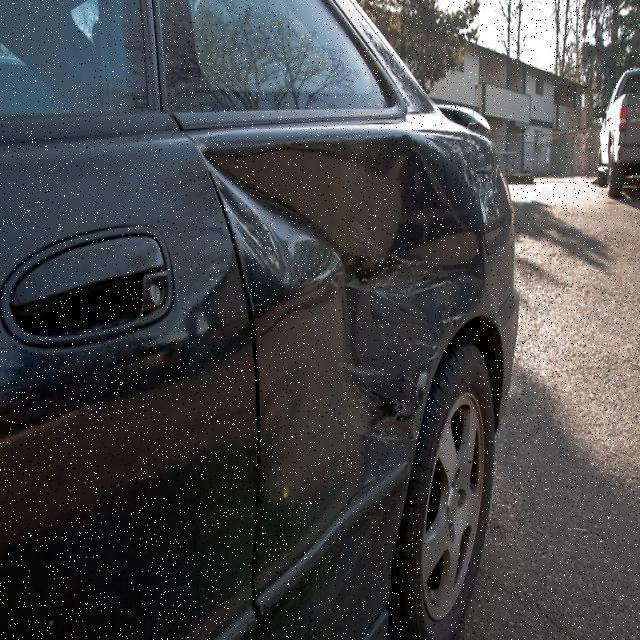quaterpanel-dent: (247, 137, 515, 457)
